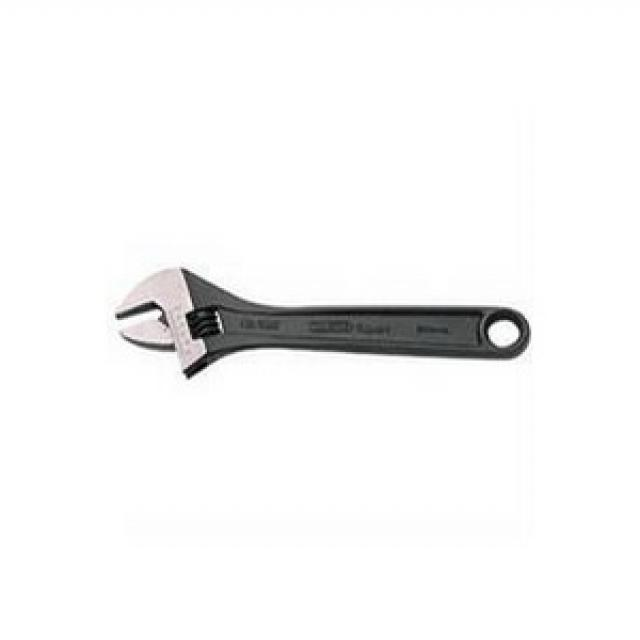wrench: (99, 255, 544, 392)
